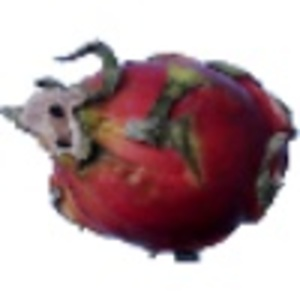pitaia: (1, 38, 300, 265)
